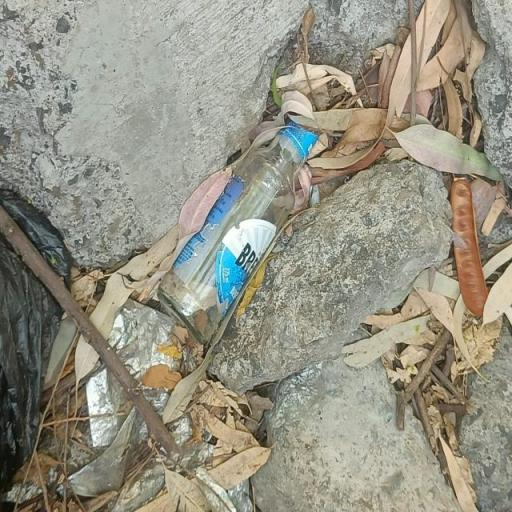glass: (165, 120, 319, 342)
